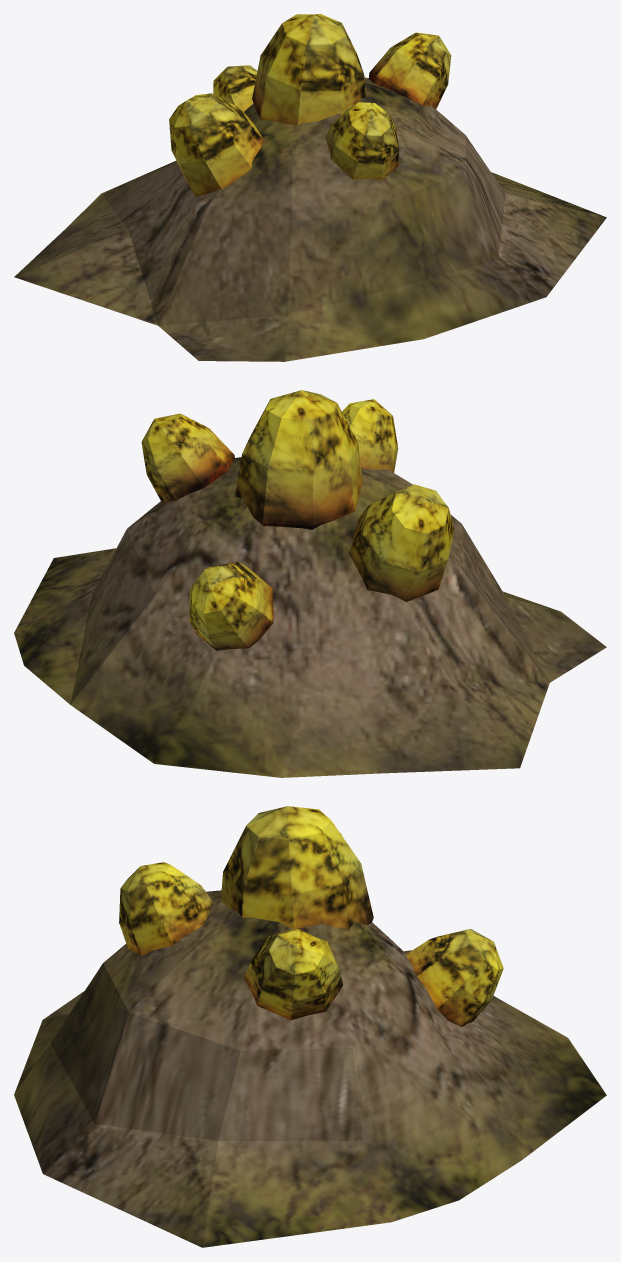
Rendered from Huevos.fbx.
The picture shows the model from 3 angles, top to bottom: view 1: azimuth 30°, elevation 25°; view 2: azimuth 150°, elevation 25°; view 3: azimuth 270°, elevation 25°; orthographic projection. The views are drawn at different scales.
Visible parts, largest first — view 1: Base; view 2: Base; view 3: Base.
Boxes of the visible parts, x1,y1,x2,y2 form: Base: [14, 14, 606, 361]; Base: [14, 390, 606, 777]; Base: [14, 806, 606, 1247].
Bounding box in the file's own units: 190 × 86.52 × 160.
Materials: 1 (1 with a texture image).
